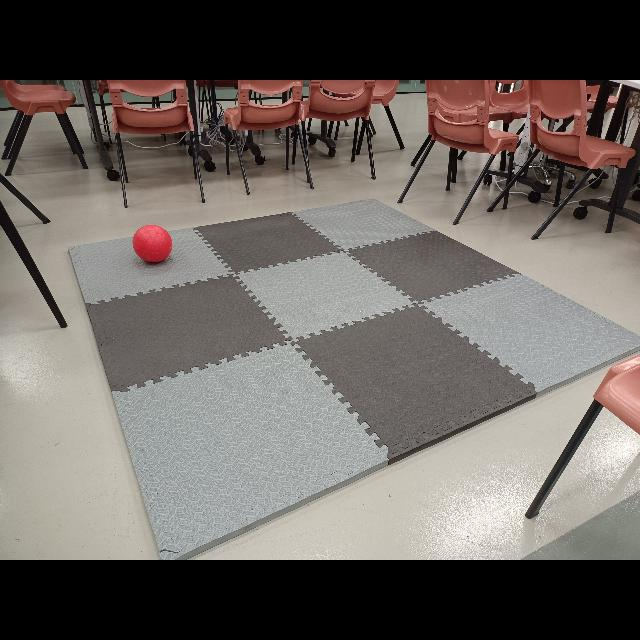R: (134, 223, 172, 264)
